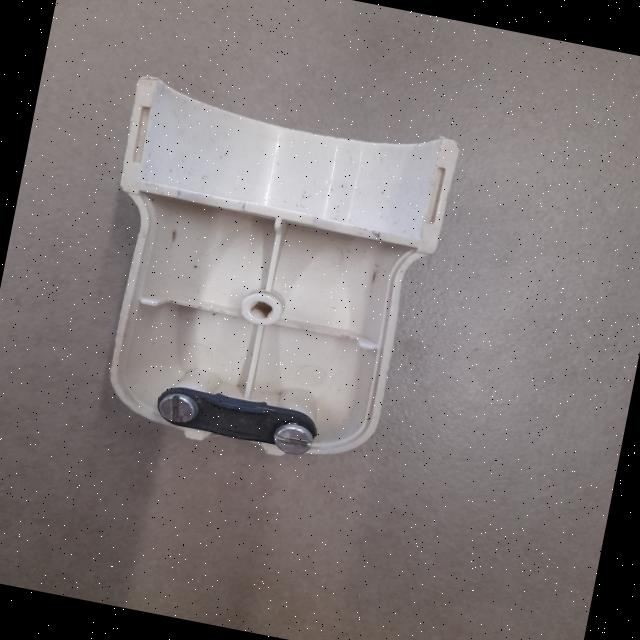Slotted: (268, 420, 316, 458), (156, 390, 200, 428)
